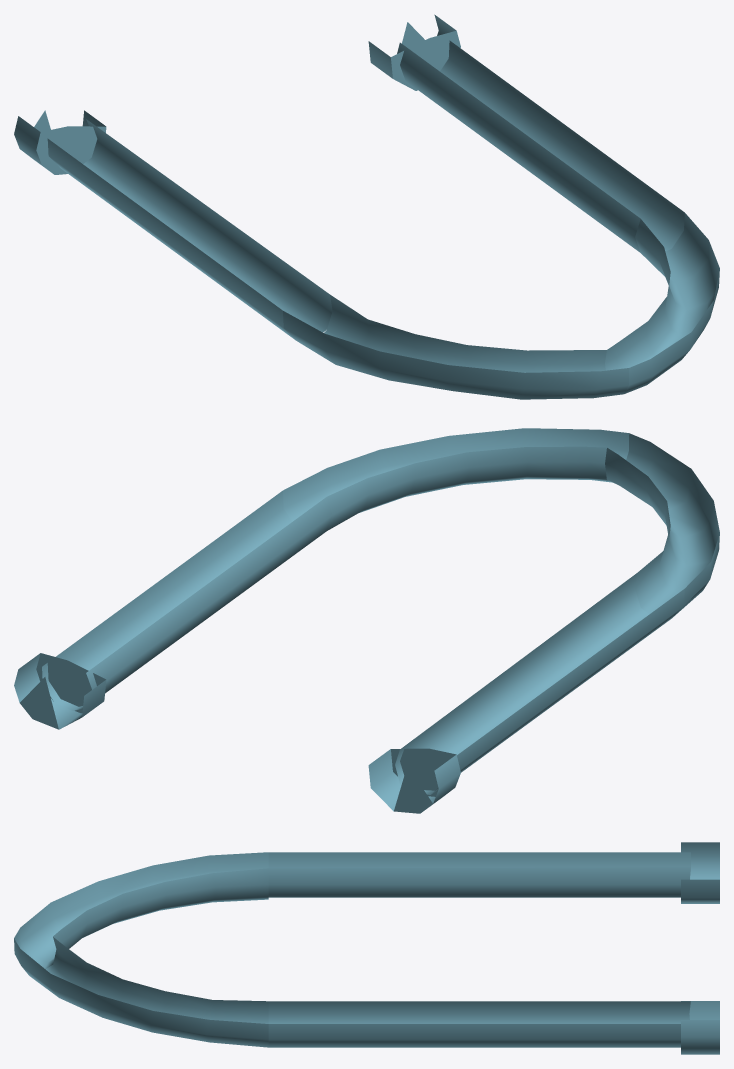
Rendered from Cathedral_door2_frame.FBX.
The picture shows the model from 3 angles, top to bottom: view 1: azimuth 30°, elevation 25°; view 2: azimuth 150°, elevation 25°; view 3: azimuth 270°, elevation 25°; orthographic projection. The views are drawn at different scales.
Parts seen in each view (by area): view 1: Cathedral_door2_frame; view 2: Cathedral_door2_frame; view 3: Cathedral_door2_frame.
Part boxes in pixels (x1,y1,x2,y2): Cathedral_door2_frame: (14, 14, 719, 399); Cathedral_door2_frame: (14, 428, 719, 813); Cathedral_door2_frame: (14, 842, 719, 1054).
Size of the model in its own units: 388 by 638 by 44.24.
